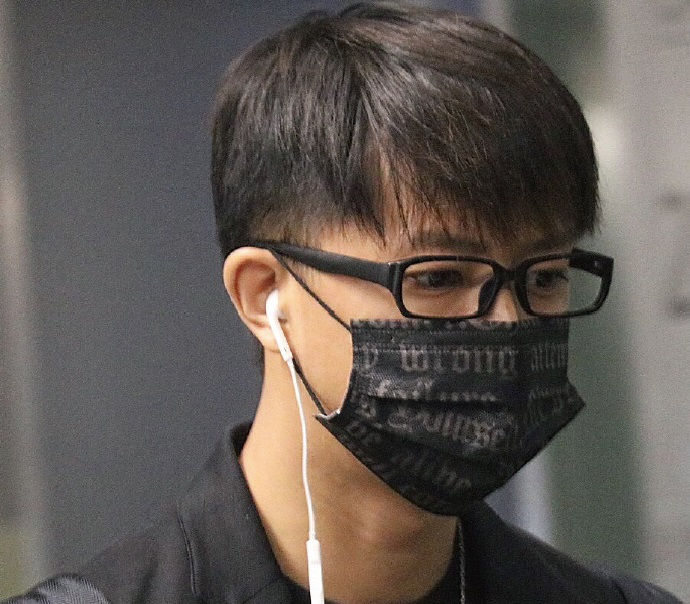face_mask: (316, 154, 575, 506)
